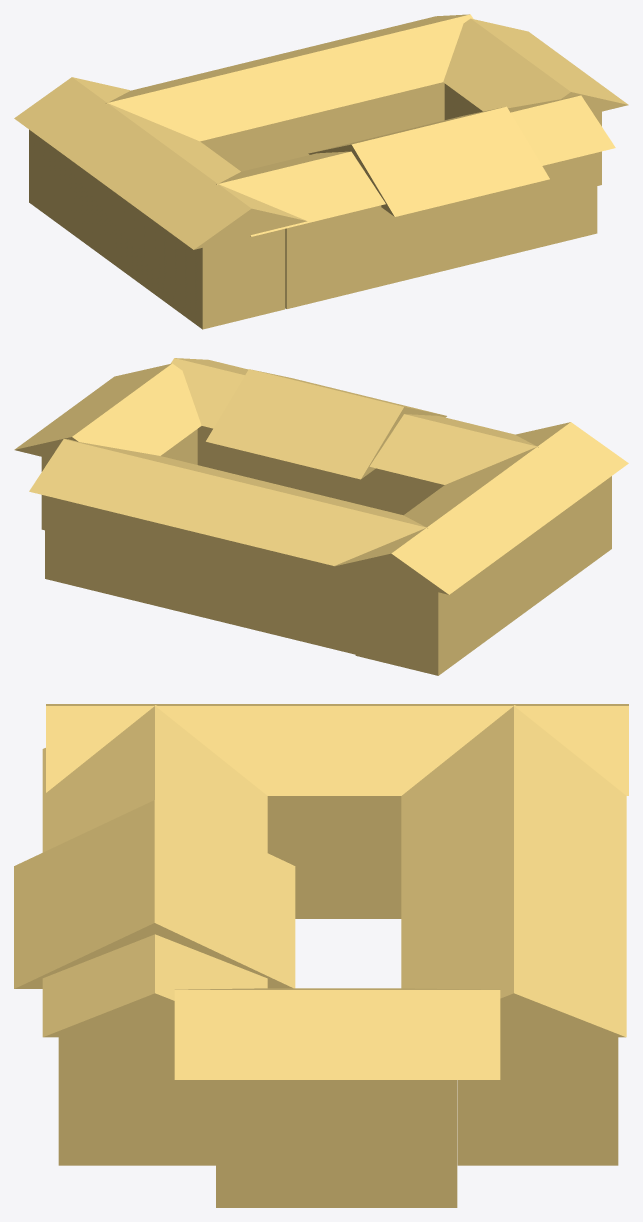
The model's file is WomenDormNav.glb.
3 renders of one model, top to bottom at view 1: azimuth 30°, elevation 25°; view 2: azimuth 150°, elevation 25°; view 3: azimuth 270°, elevation 25°, orthographic. The views are drawn at different scales.
Parts seen in each view (by area): view 1: Cube.008; view 2: Cube.008; view 3: Cube.008.
Boxes of the visible parts, x1,y1,x2,y2 form: Cube.008: (14, 14, 628, 329); Cube.008: (14, 358, 628, 675); Cube.008: (14, 704, 628, 1207).
Size of the model in its own units: 23.14 by 5.59 by 16.
